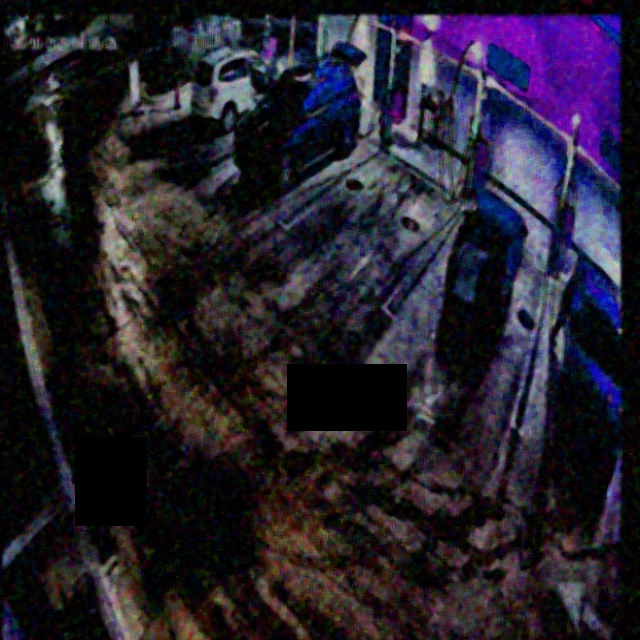Car: (234, 59, 363, 193), (445, 189, 530, 345)
